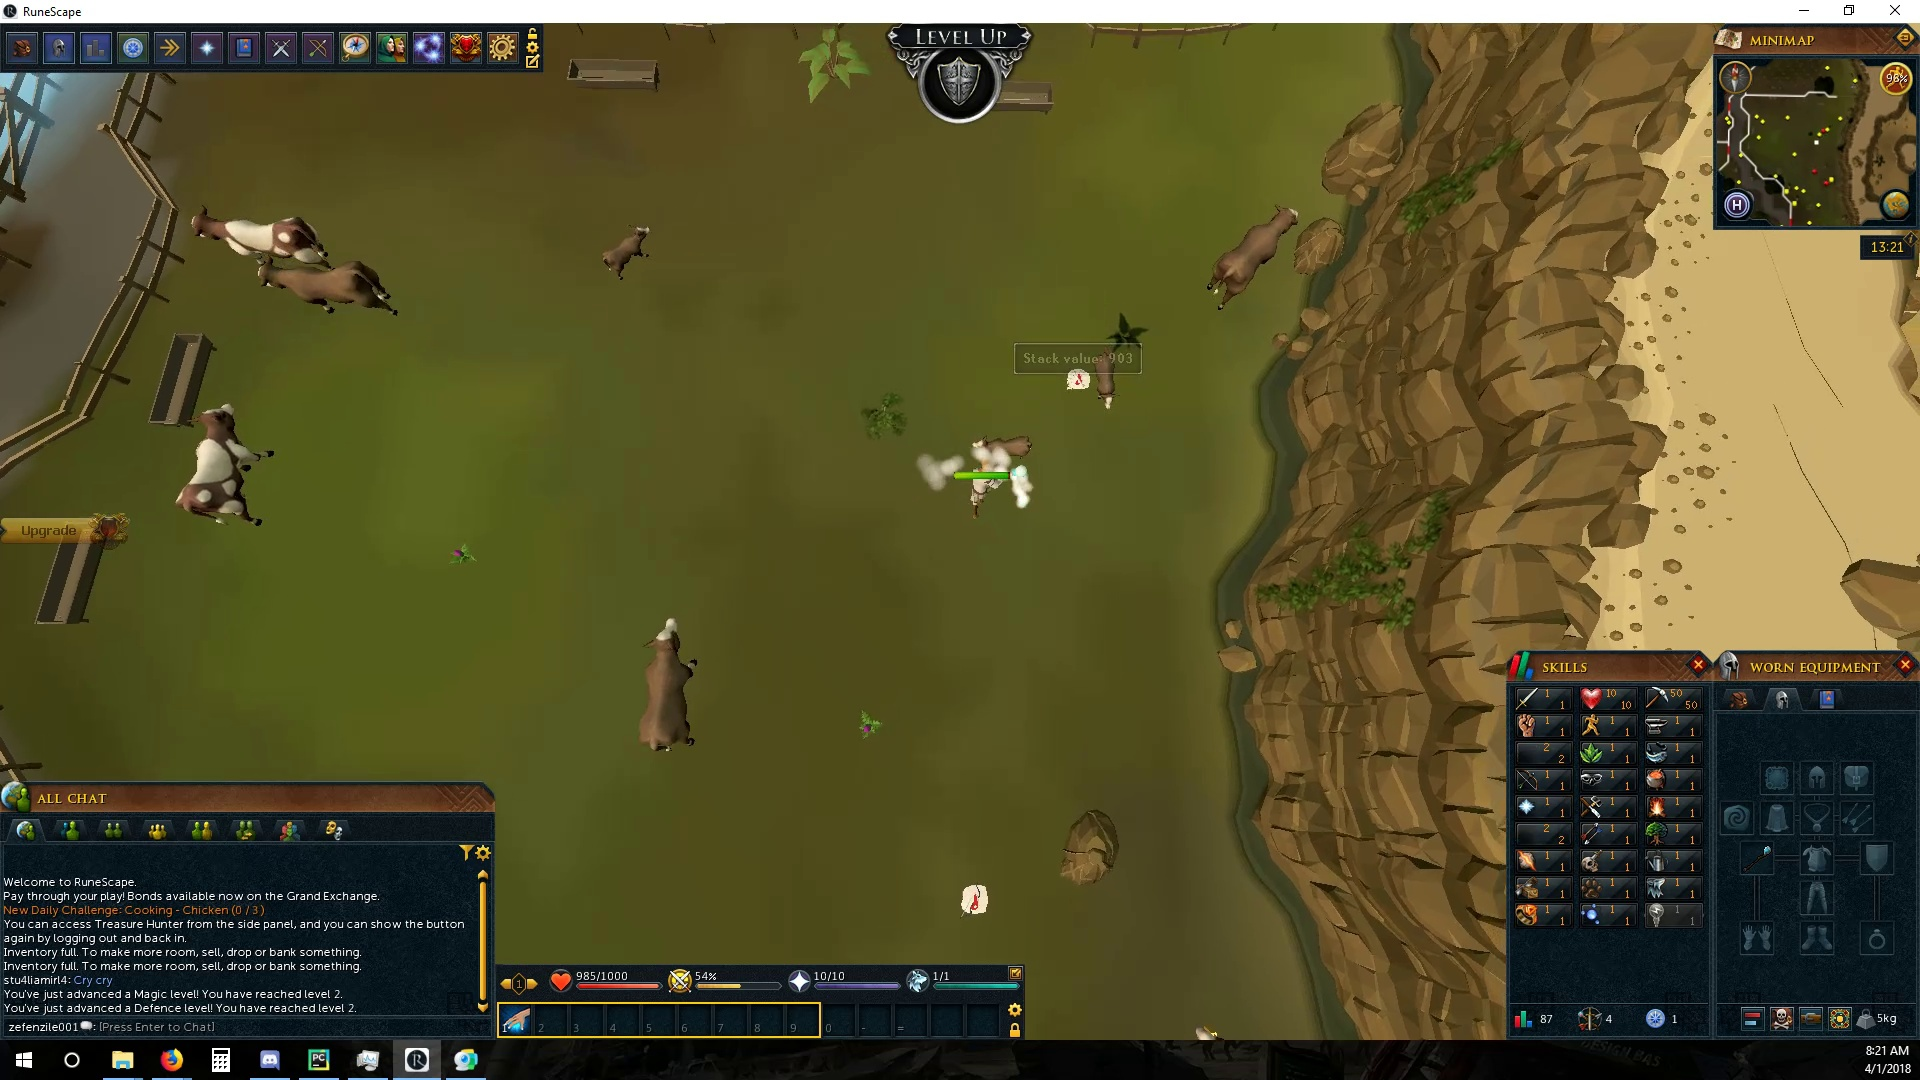calf: (597, 223, 654, 284), (1089, 349, 1117, 411)
cow: (174, 401, 277, 533), (1200, 196, 1300, 315), (632, 615, 698, 760), (249, 260, 401, 320), (182, 203, 328, 265)
cow_drop: (953, 882, 996, 916), (1062, 365, 1092, 392)
